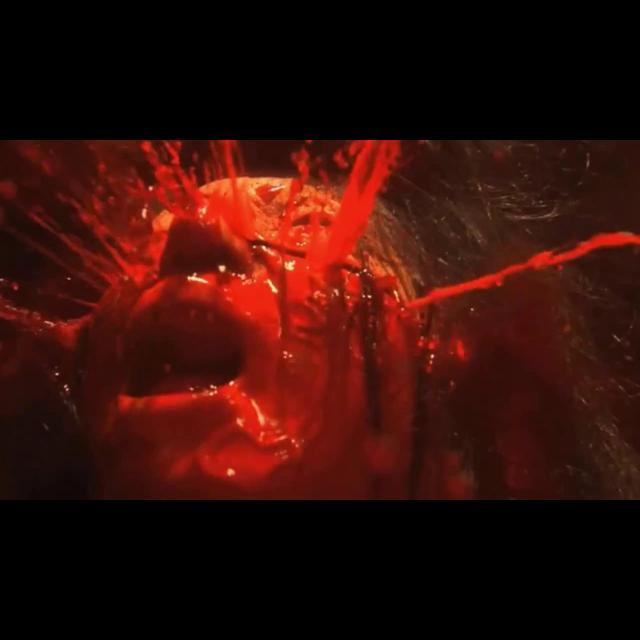blood: (0, 140, 640, 498)
